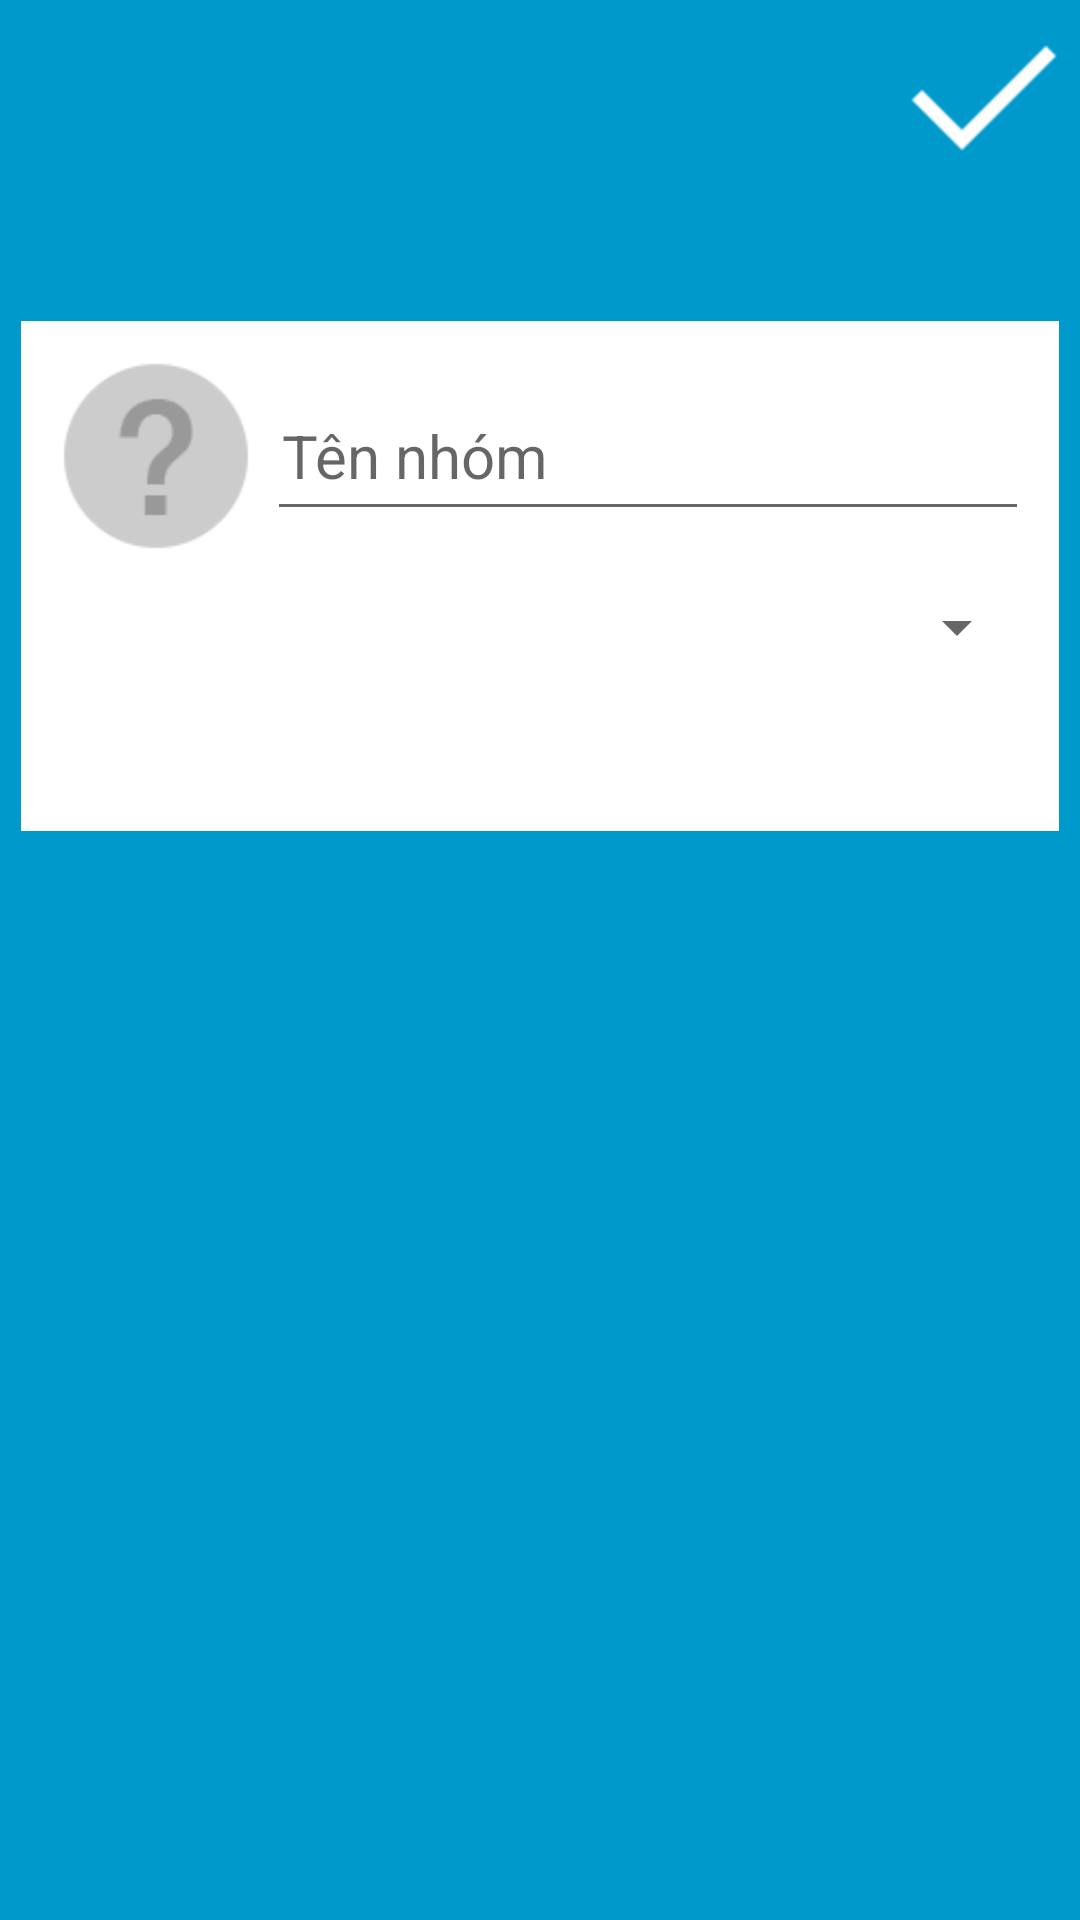

Screen size 1080px x 1920px. Icon name, then its box in pixels as detection(x1, y1, x2, y2):
Hoàn tất: detection(911, 45, 1057, 151)
Không ảnh nhóm: detection(64, 364, 248, 548)
